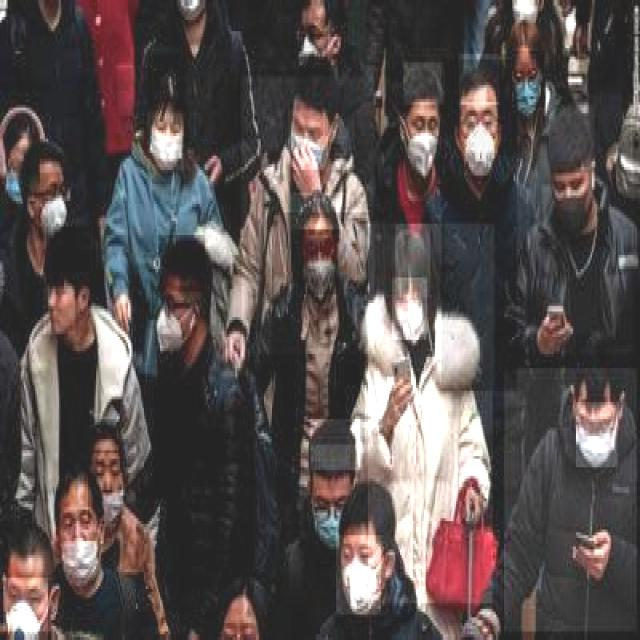face_mask: (54, 501, 100, 586), (336, 536, 382, 618), (459, 102, 498, 176), (550, 170, 594, 235), (576, 402, 618, 467), (88, 450, 123, 527), (299, 230, 338, 298), (310, 484, 352, 547), (3, 578, 50, 634), (405, 104, 440, 176), (288, 110, 328, 170), (152, 283, 184, 354), (392, 278, 427, 342), (147, 110, 184, 170), (508, 51, 546, 108), (38, 172, 68, 240), (292, 17, 330, 65), (3, 150, 24, 207)
face_nomask: (43, 275, 75, 334)
hand_noglove: (576, 526, 614, 578), (222, 322, 250, 377), (538, 309, 572, 354), (387, 380, 416, 428), (114, 289, 132, 348), (461, 484, 482, 527)
head_nohelmet: (6, 504, 53, 575), (46, 226, 98, 289), (576, 334, 621, 405), (549, 105, 595, 170), (158, 235, 206, 295), (282, 74, 341, 122), (395, 224, 432, 300), (310, 419, 362, 473), (147, 54, 186, 113), (52, 459, 98, 507), (459, 54, 499, 105), (292, 192, 342, 230), (403, 62, 445, 105), (510, 8, 540, 62), (38, 136, 68, 173), (90, 419, 118, 453)
person: (369, 222, 495, 608), (136, 263, 256, 629), (242, 76, 376, 357), (504, 368, 638, 634), (526, 93, 636, 357), (29, 250, 139, 498), (442, 59, 518, 393), (272, 212, 366, 444), (118, 45, 214, 266), (386, 25, 444, 298)
